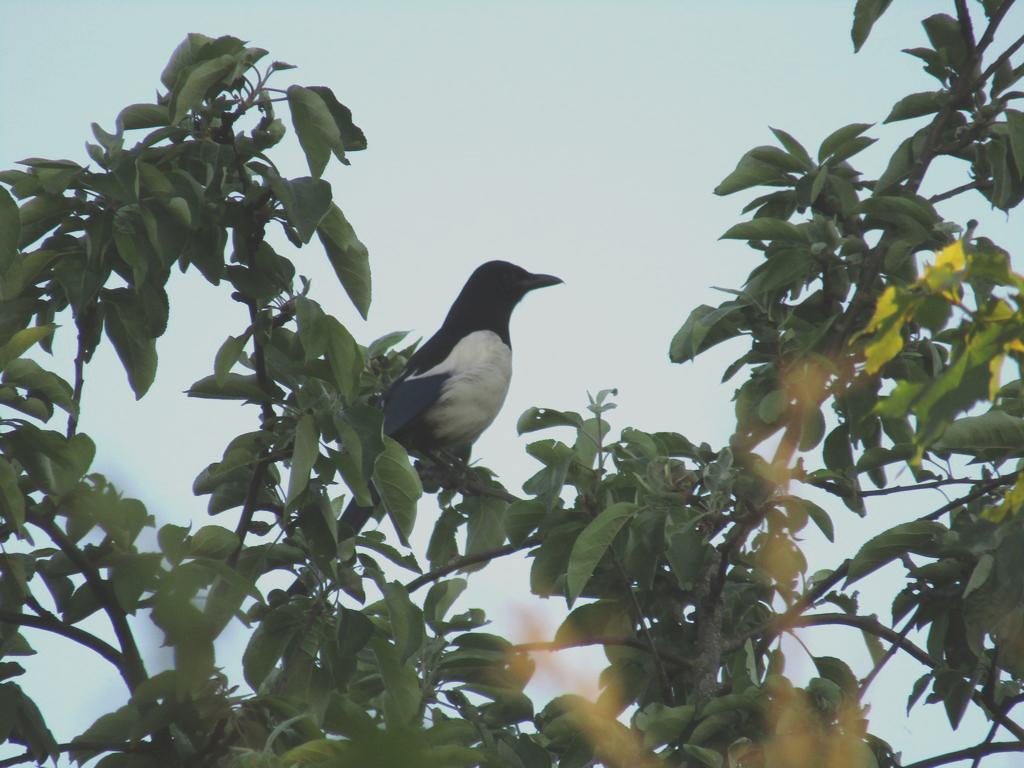PicaPica: (286, 259, 566, 596)
